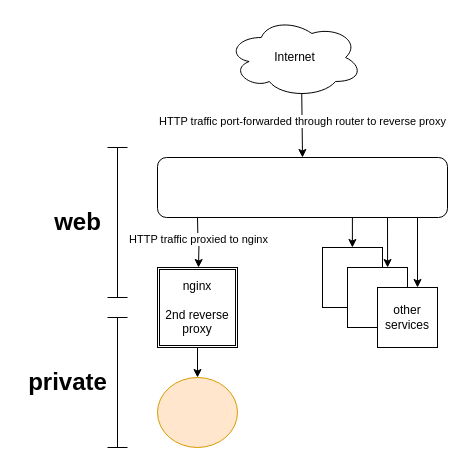
This 465x465 diagram has some shape labels left out. The shapes that lost their labels are listed below. From the top down, each one's centre as x and y in pixels, then its label:
At pixel 302 187: "main reverse proxy - likely shared by many services".
At pixel 197 412: "isolated service".
